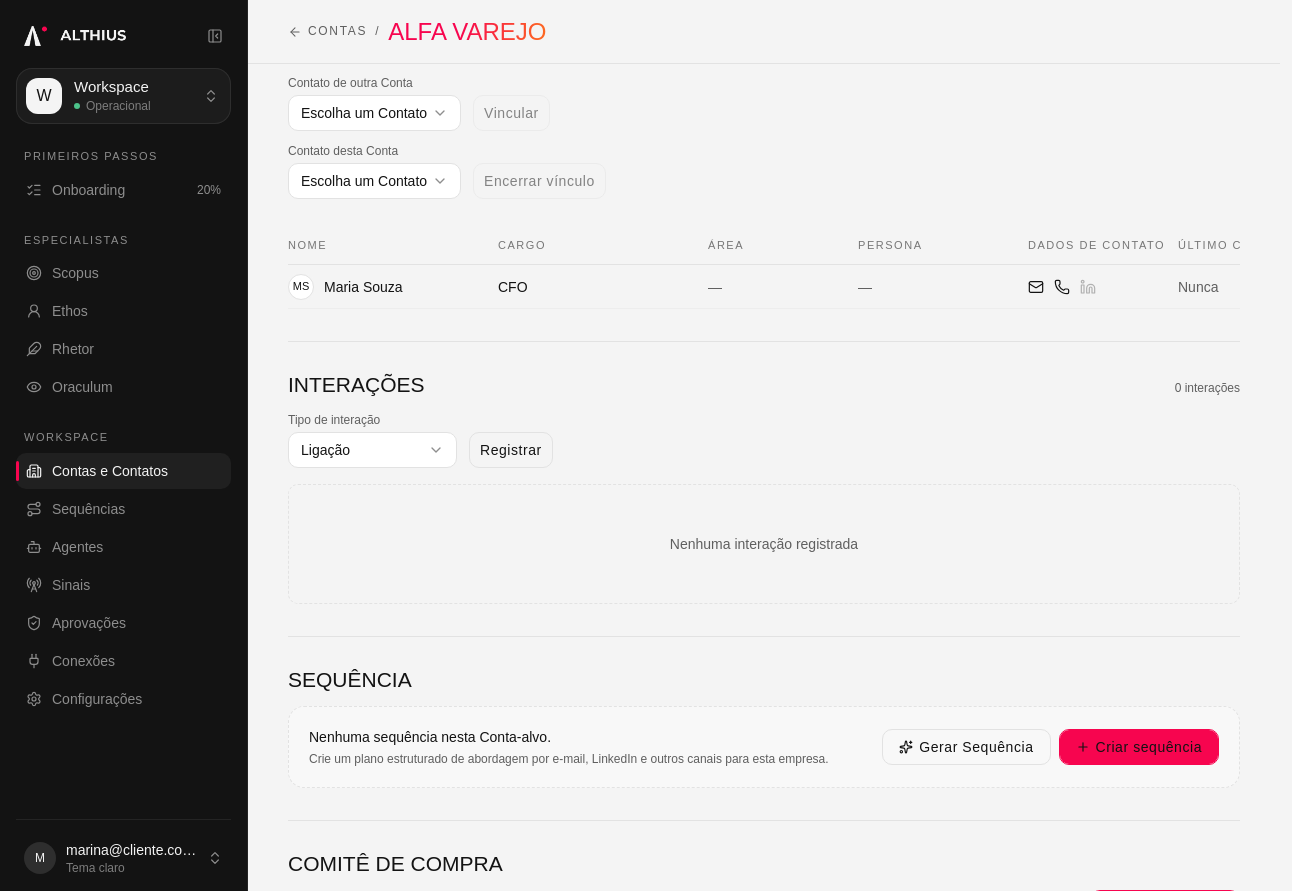
Test: Contas-alvo reais no Workspace operacional › o Vendedor responsável registra uma Interação manual e a vê no histórico da Conta
(page scrolled)
Select "Ligação" in the dropdown labelled "Tipo de interação" at (372,450), box [288, 432, 457, 468]
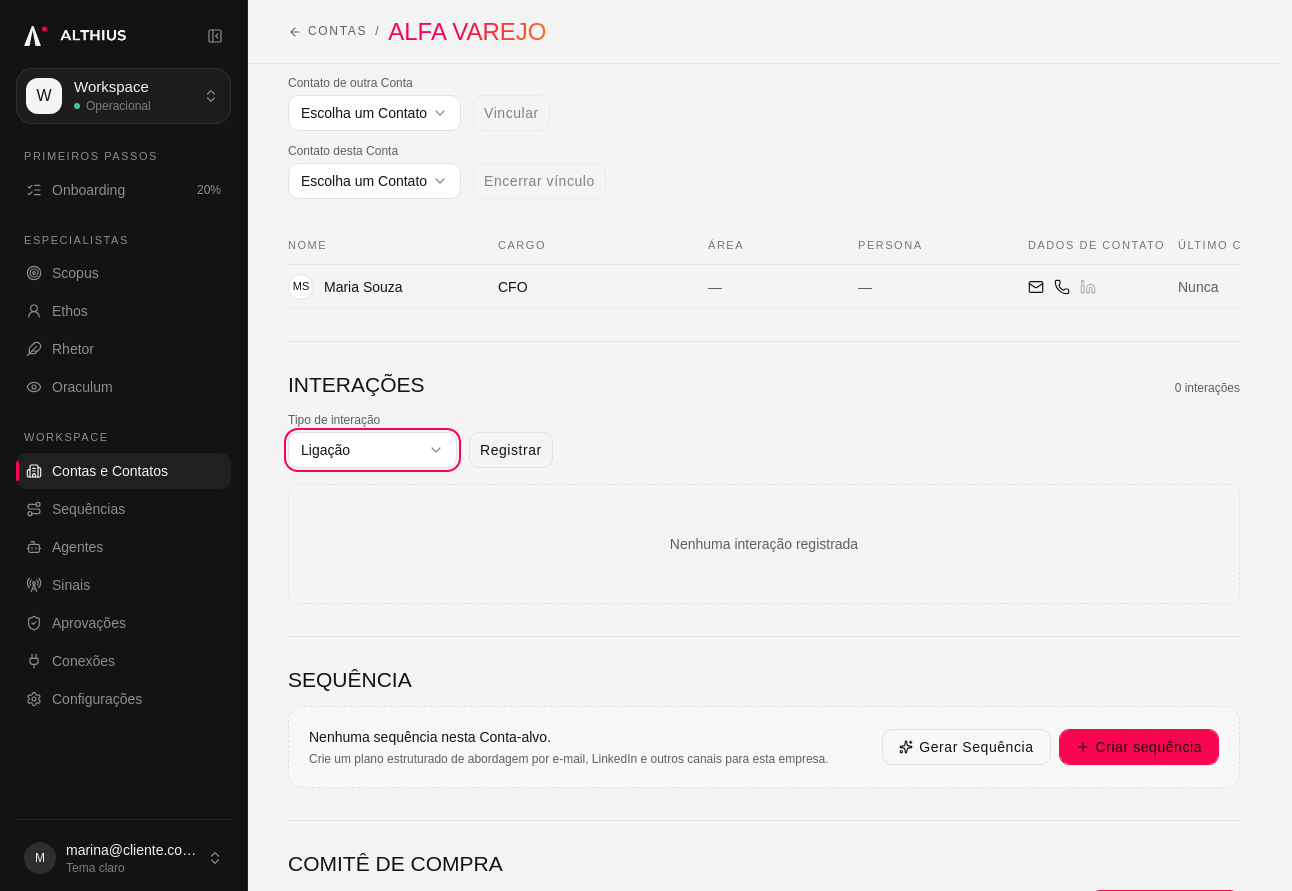
Click the button "Registrar".
click(511, 450)  # box [469, 432, 553, 468]
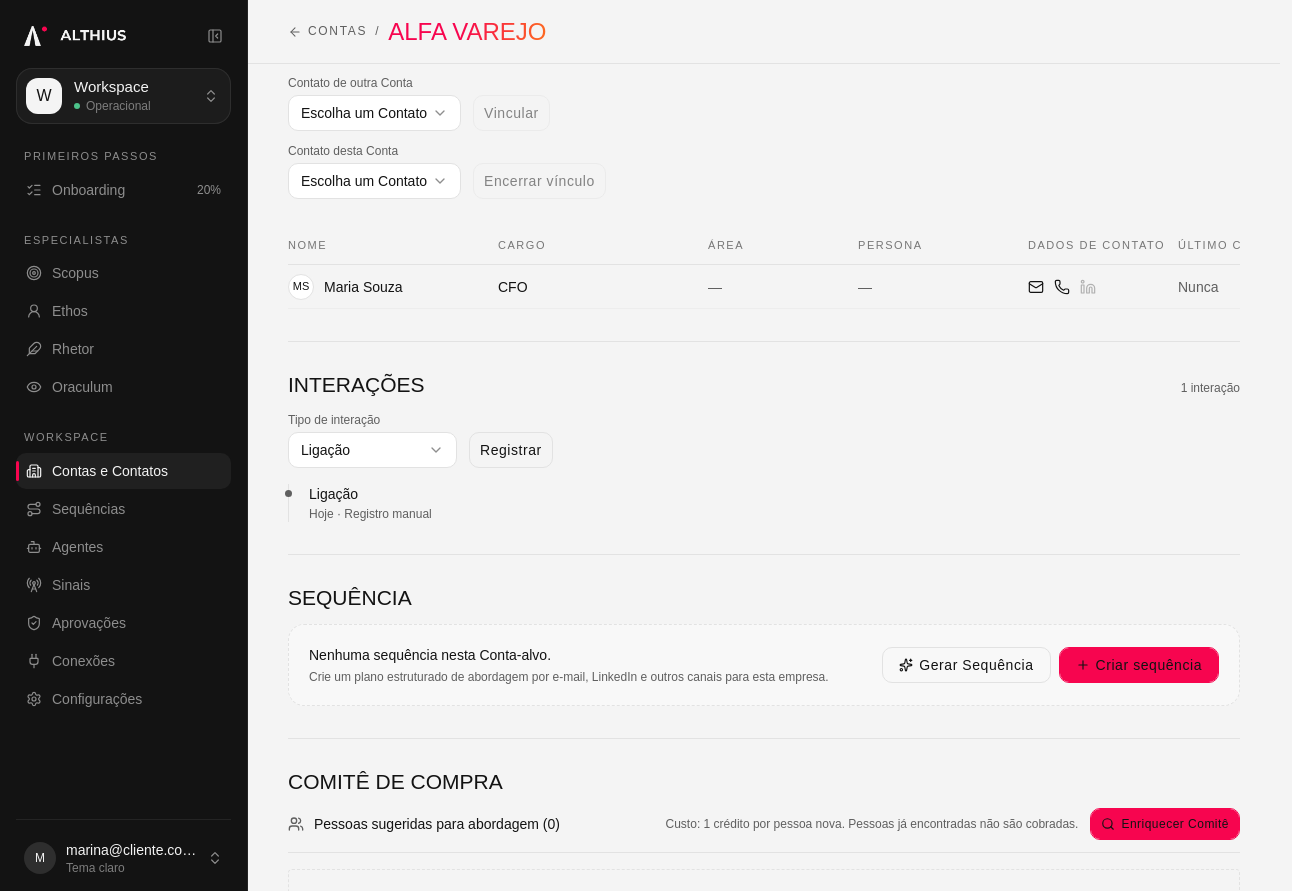
Result: the text "Ligação" is shown at [309, 486, 358, 502]
Result: the text "Hoje · Registro manual" is shown at [309, 507, 432, 521]
